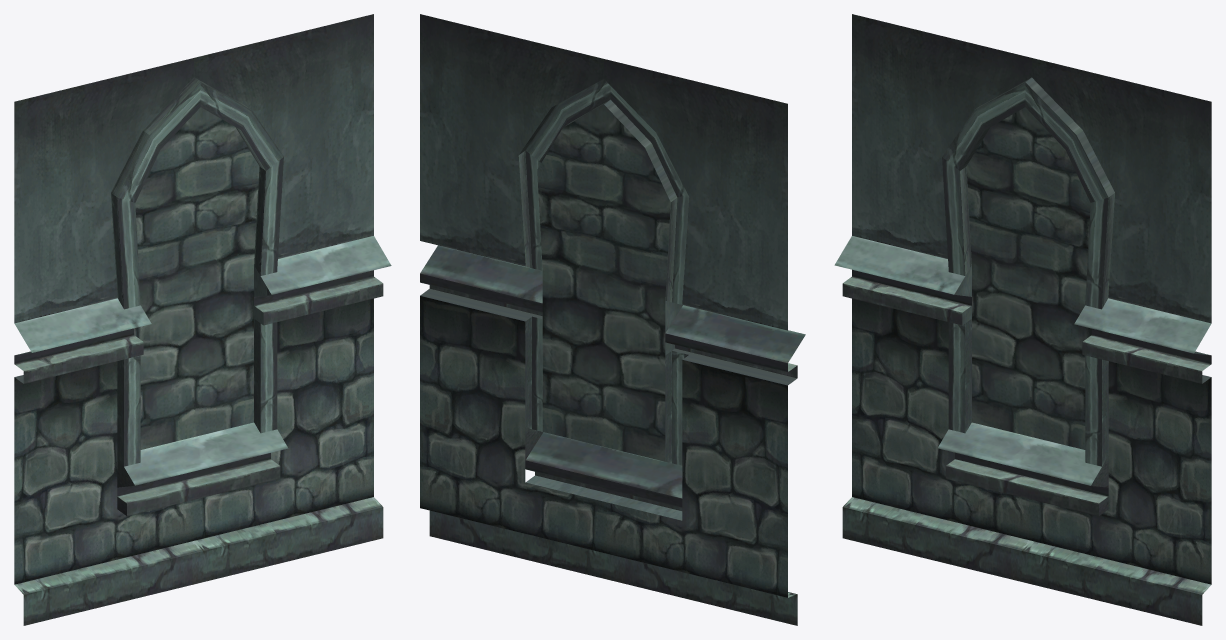
The model's file is crypt_wall_straight_06.fbx.
3 views of the same model, side by side, from view 1: azimuth 30°, elevation 25°; view 2: azimuth 150°, elevation 25°; view 3: azimuth 330°, elevation 25° (orthographic). The views are drawn at different scales.
Visible parts, largest first — view 1: crypt_wall_straight_06-0; view 2: crypt_wall_straight_06-0; view 3: crypt_wall_straight_06-0.
Part boxes in pixels (box(x1,y1,x2,y2)): crypt_wall_straight_06-0: box(14, 14, 391, 625); crypt_wall_straight_06-0: box(420, 14, 805, 625); crypt_wall_straight_06-0: box(834, 14, 1211, 625).
Size of the model in its own units: 4 by 5.5 by 0.34.
